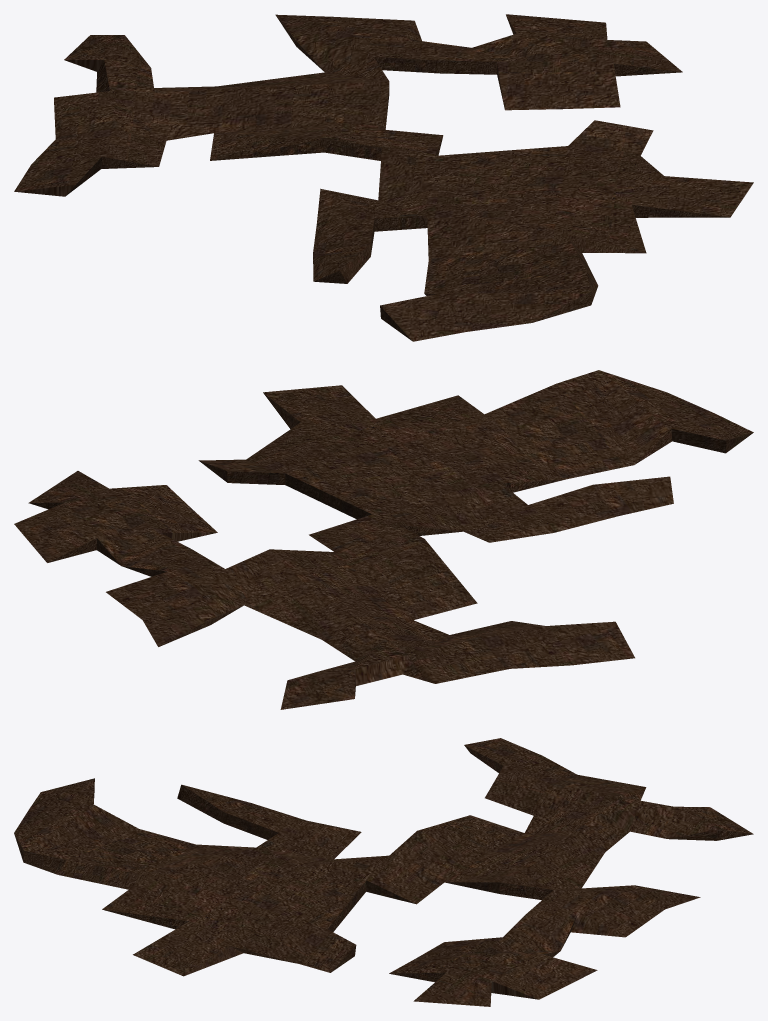
Rendered from underworldCobble_01.fbx.
3 views of the same model, one above another, from view 1: azimuth 30°, elevation 25°; view 2: azimuth 150°, elevation 25°; view 3: azimuth 270°, elevation 25° (orthographic). The views are drawn at different scales.
Visible parts, largest first — view 1: cobblePlatformRuin; view 2: cobblePlatformRuin; view 3: cobblePlatformRuin.
Part boxes in pixels (bbox=[...]): cobblePlatformRuin: bbox=[14, 14, 753, 341]; cobblePlatformRuin: bbox=[14, 370, 753, 709]; cobblePlatformRuin: bbox=[14, 738, 753, 1006].
Bounding box in the file's own units: 4.06 × 0.1873 × 4.7.
1 material, 1 textured.
